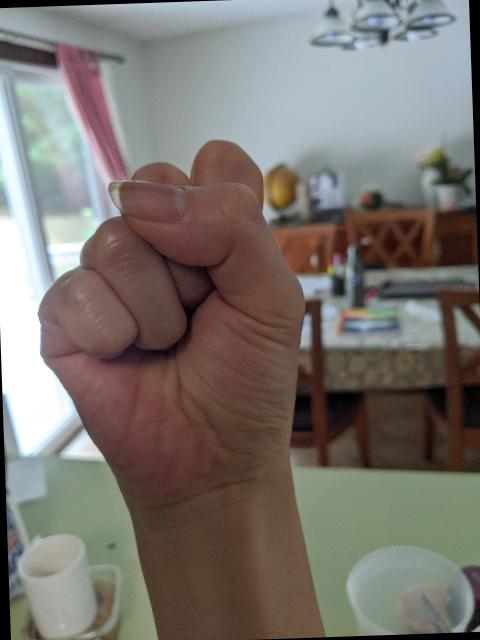S: (24, 131, 322, 520)
